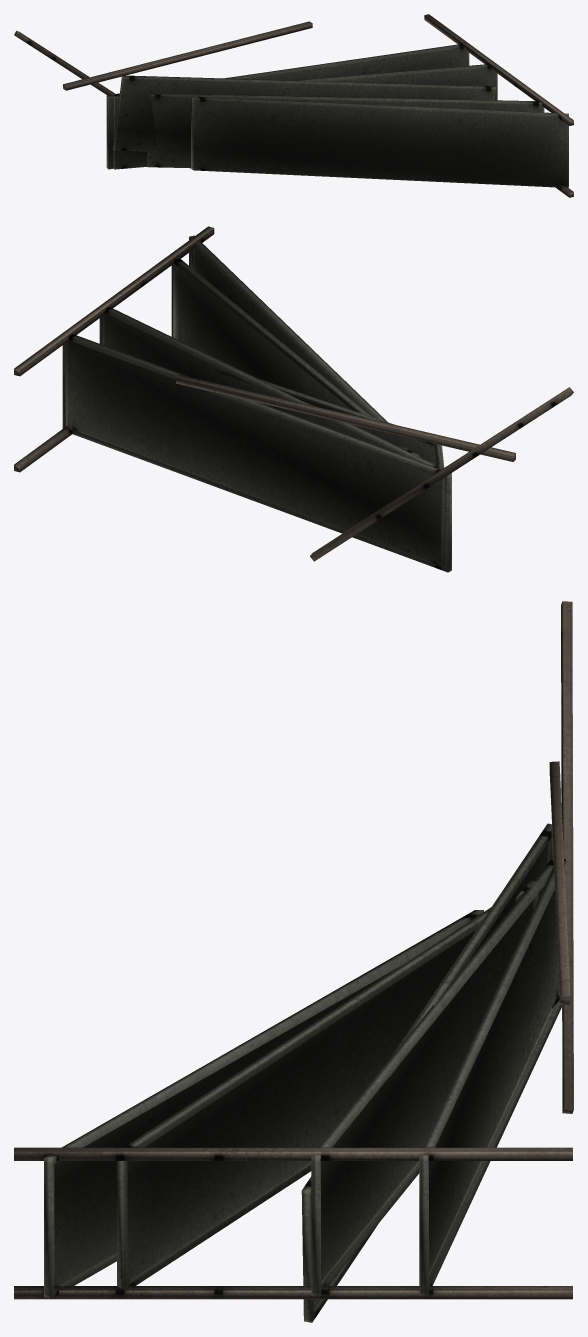
The model's file is asset.gltf.
The picture shows the model from 3 angles, top to bottom: view 1: azimuth 30°, elevation 25°; view 2: azimuth 150°, elevation 25°; view 3: azimuth 270°, elevation 25°; orthographic projection. The views are drawn at different scales.
Parts seen in each view (by area): view 1: Shelf; view 2: Shelf; view 3: Shelf.
Boxes of the visible parts, x1,y1,x2,y2 form: Shelf: (14,14,573,197); Shelf: (14,226,573,572); Shelf: (14,601,573,1322).
Bounding box in the file's own units: 1.83 × 0.7444 × 1.1.
Materials: 1 (1 with a texture image).
